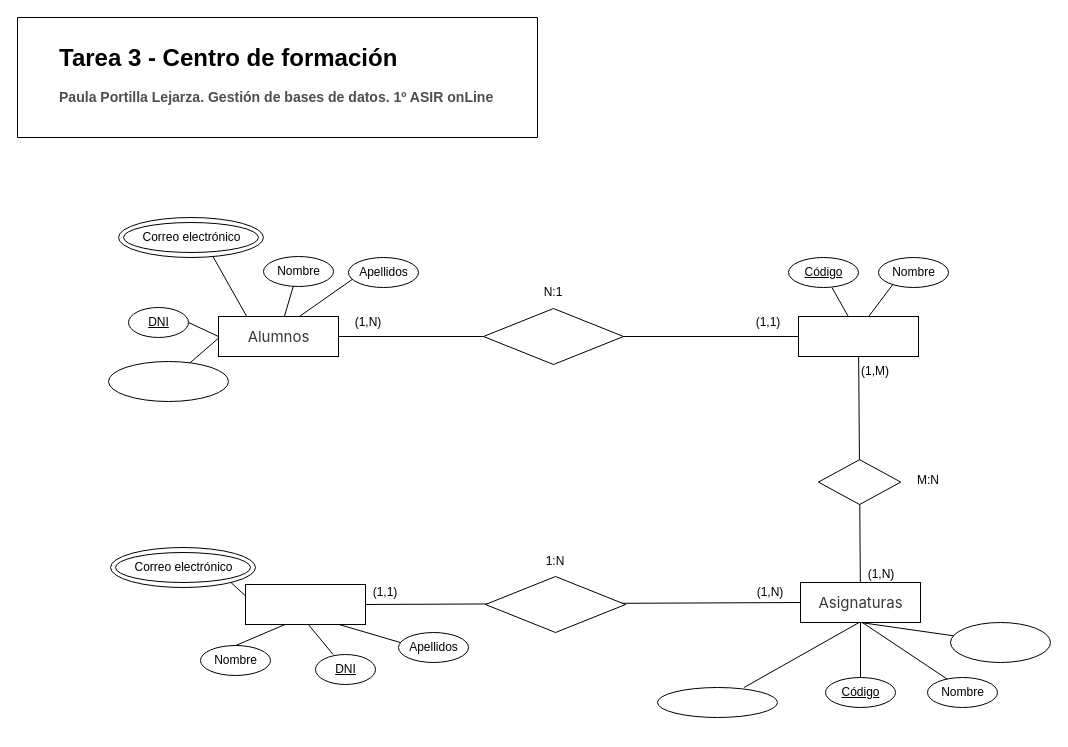
This 1068x747 diagram has some shape labels left out. Each missing label, with the box of its shape:
Cursos: (798, 316, 918, 356)
Fecha nacimiento: (108, 360, 228, 402)
Horas semanales: (656, 686, 778, 718)
Horas totales curso: (950, 622, 1050, 662)
imparten: (484, 576, 626, 632)
Profesores: (244, 584, 366, 624)
se matriculan: (482, 308, 624, 364)
tienen: (817, 459, 901, 504)
